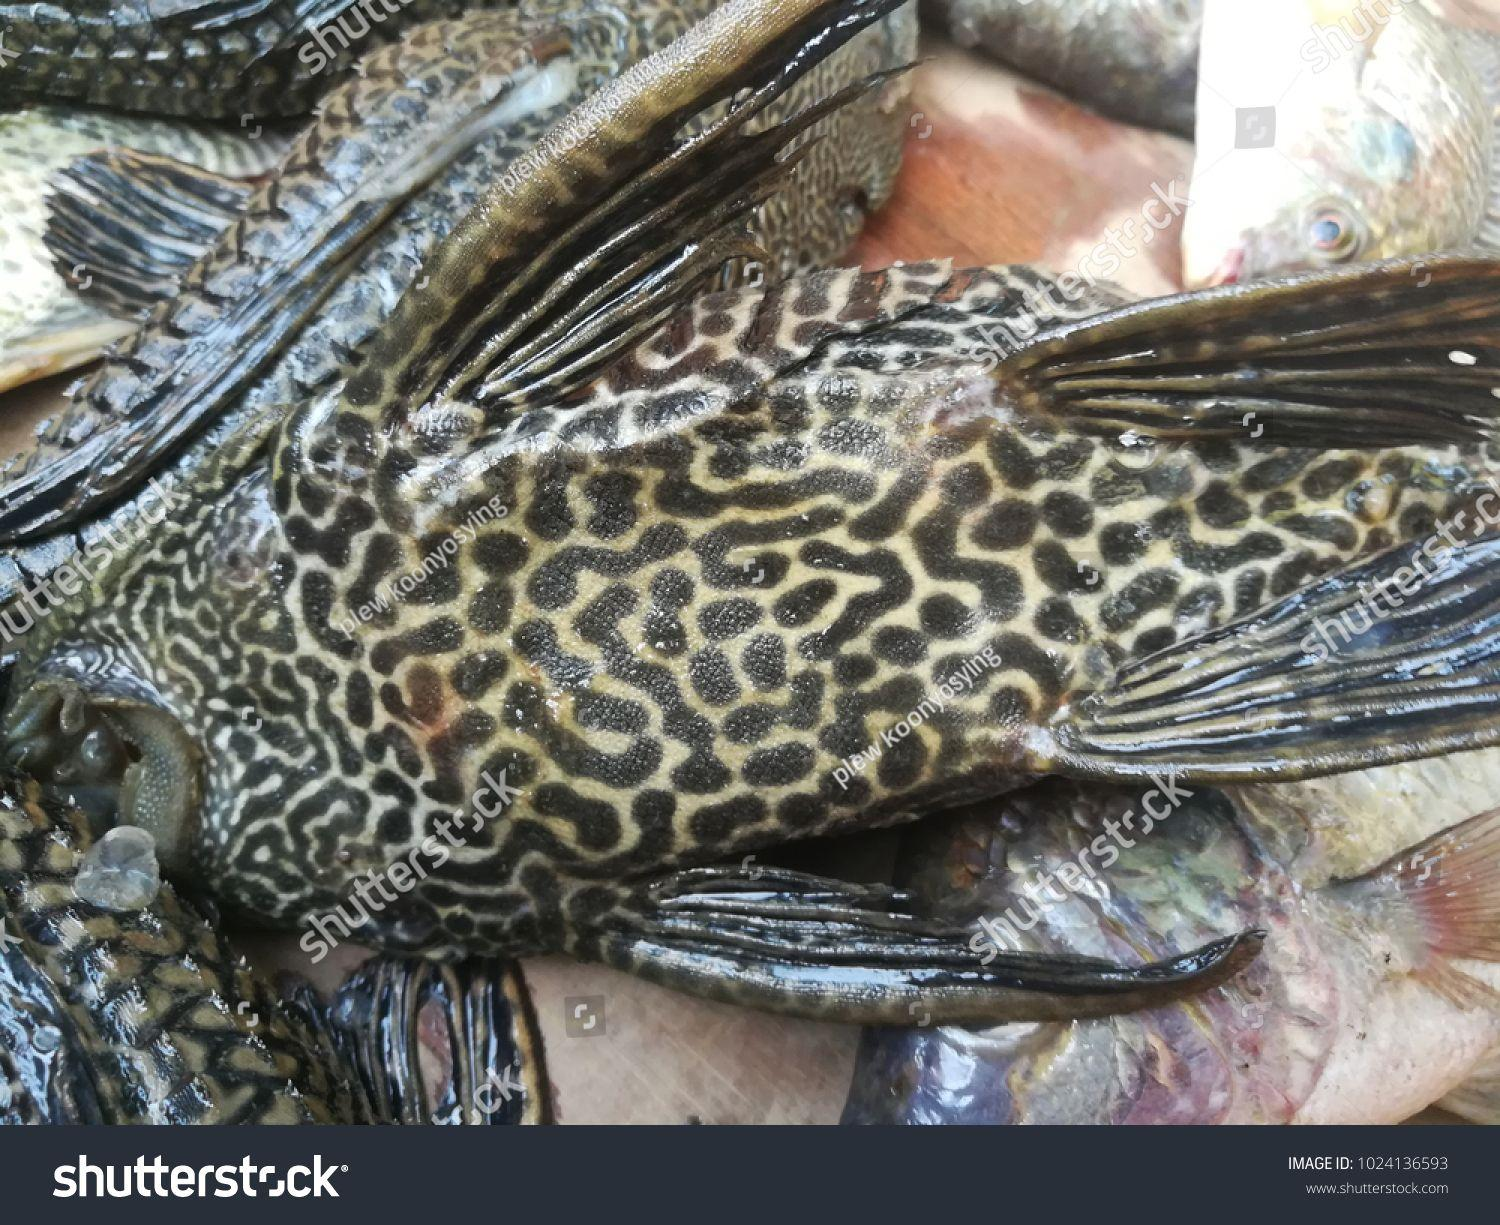Janitor Fish: (15, 297, 1500, 1009)
